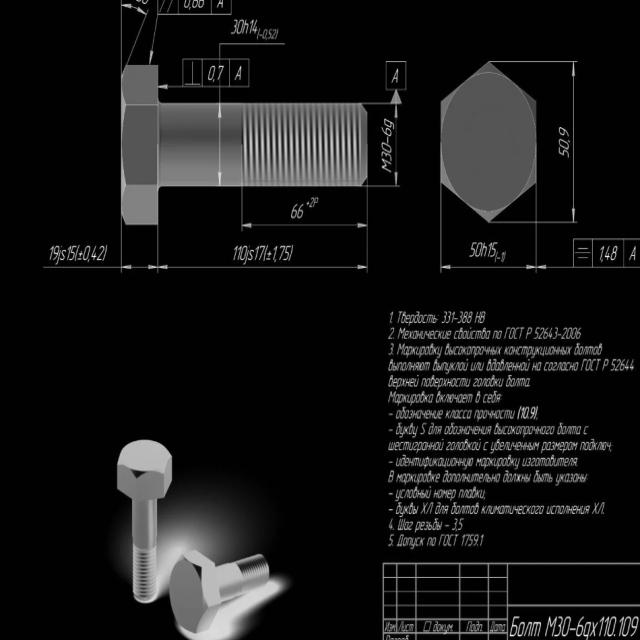marking_line: (158, 265, 366, 269), (243, 222, 367, 228), (441, 263, 535, 270), (571, 63, 575, 222), (536, 264, 640, 269), (217, 103, 223, 187), (159, 82, 249, 87), (393, 105, 398, 186), (122, 264, 159, 270)
numeric: (297, 202, 305, 220), (240, 245, 249, 261), (283, 244, 291, 261), (69, 246, 77, 261), (97, 245, 104, 262), (208, 64, 215, 81), (52, 245, 59, 261), (82, 245, 89, 261), (291, 204, 298, 220), (259, 245, 265, 263), (91, 245, 97, 262), (217, 64, 223, 81), (231, 18, 237, 35), (49, 243, 54, 263), (232, 245, 238, 261), (273, 244, 278, 262), (238, 18, 243, 35), (279, 244, 284, 260), (254, 245, 259, 260), (66, 245, 70, 263), (249, 19, 253, 36), (254, 19, 258, 34), (238, 245, 241, 262)
